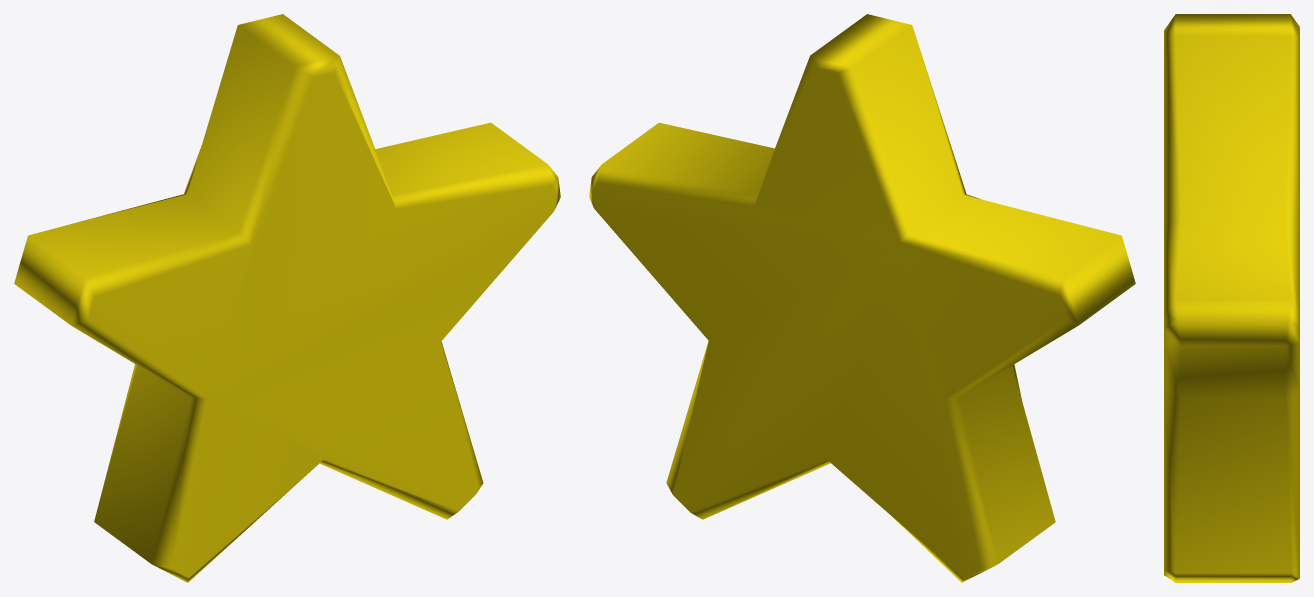
File: Item_Star.fbx
The picture shows the model from 3 angles, left to right: view 1: azimuth 30°, elevation 25°; view 2: azimuth 150°, elevation 25°; view 3: azimuth 270°, elevation 25°; orthographic projection.
Visible parts, largest first — view 1: Item_Star; view 2: Item_Star; view 3: Item_Star.
Boxes of the visible parts, <box> form: Item_Star: <box>14,14,560,582</box>; Item_Star: <box>589,14,1135,582</box>; Item_Star: <box>1164,14,1299,582</box>.
Bounding box in the file's own units: 60.78 × 57.81 × 14.39.
